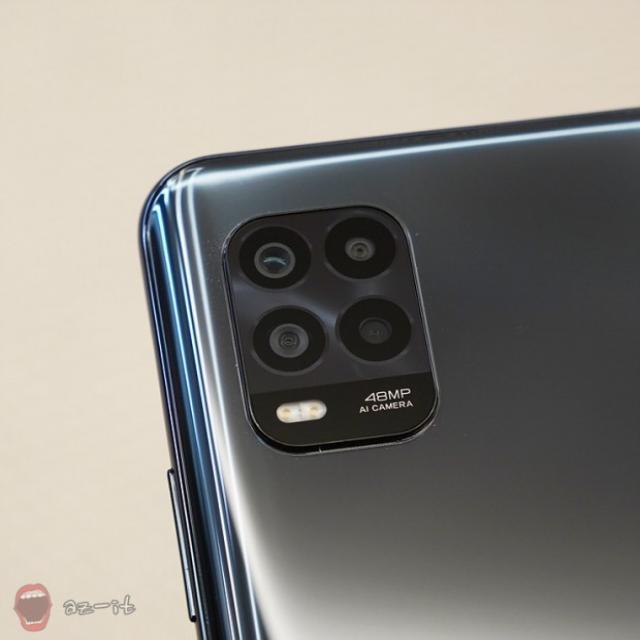lens: (223, 206, 440, 443)
phone: (141, 103, 640, 640)
